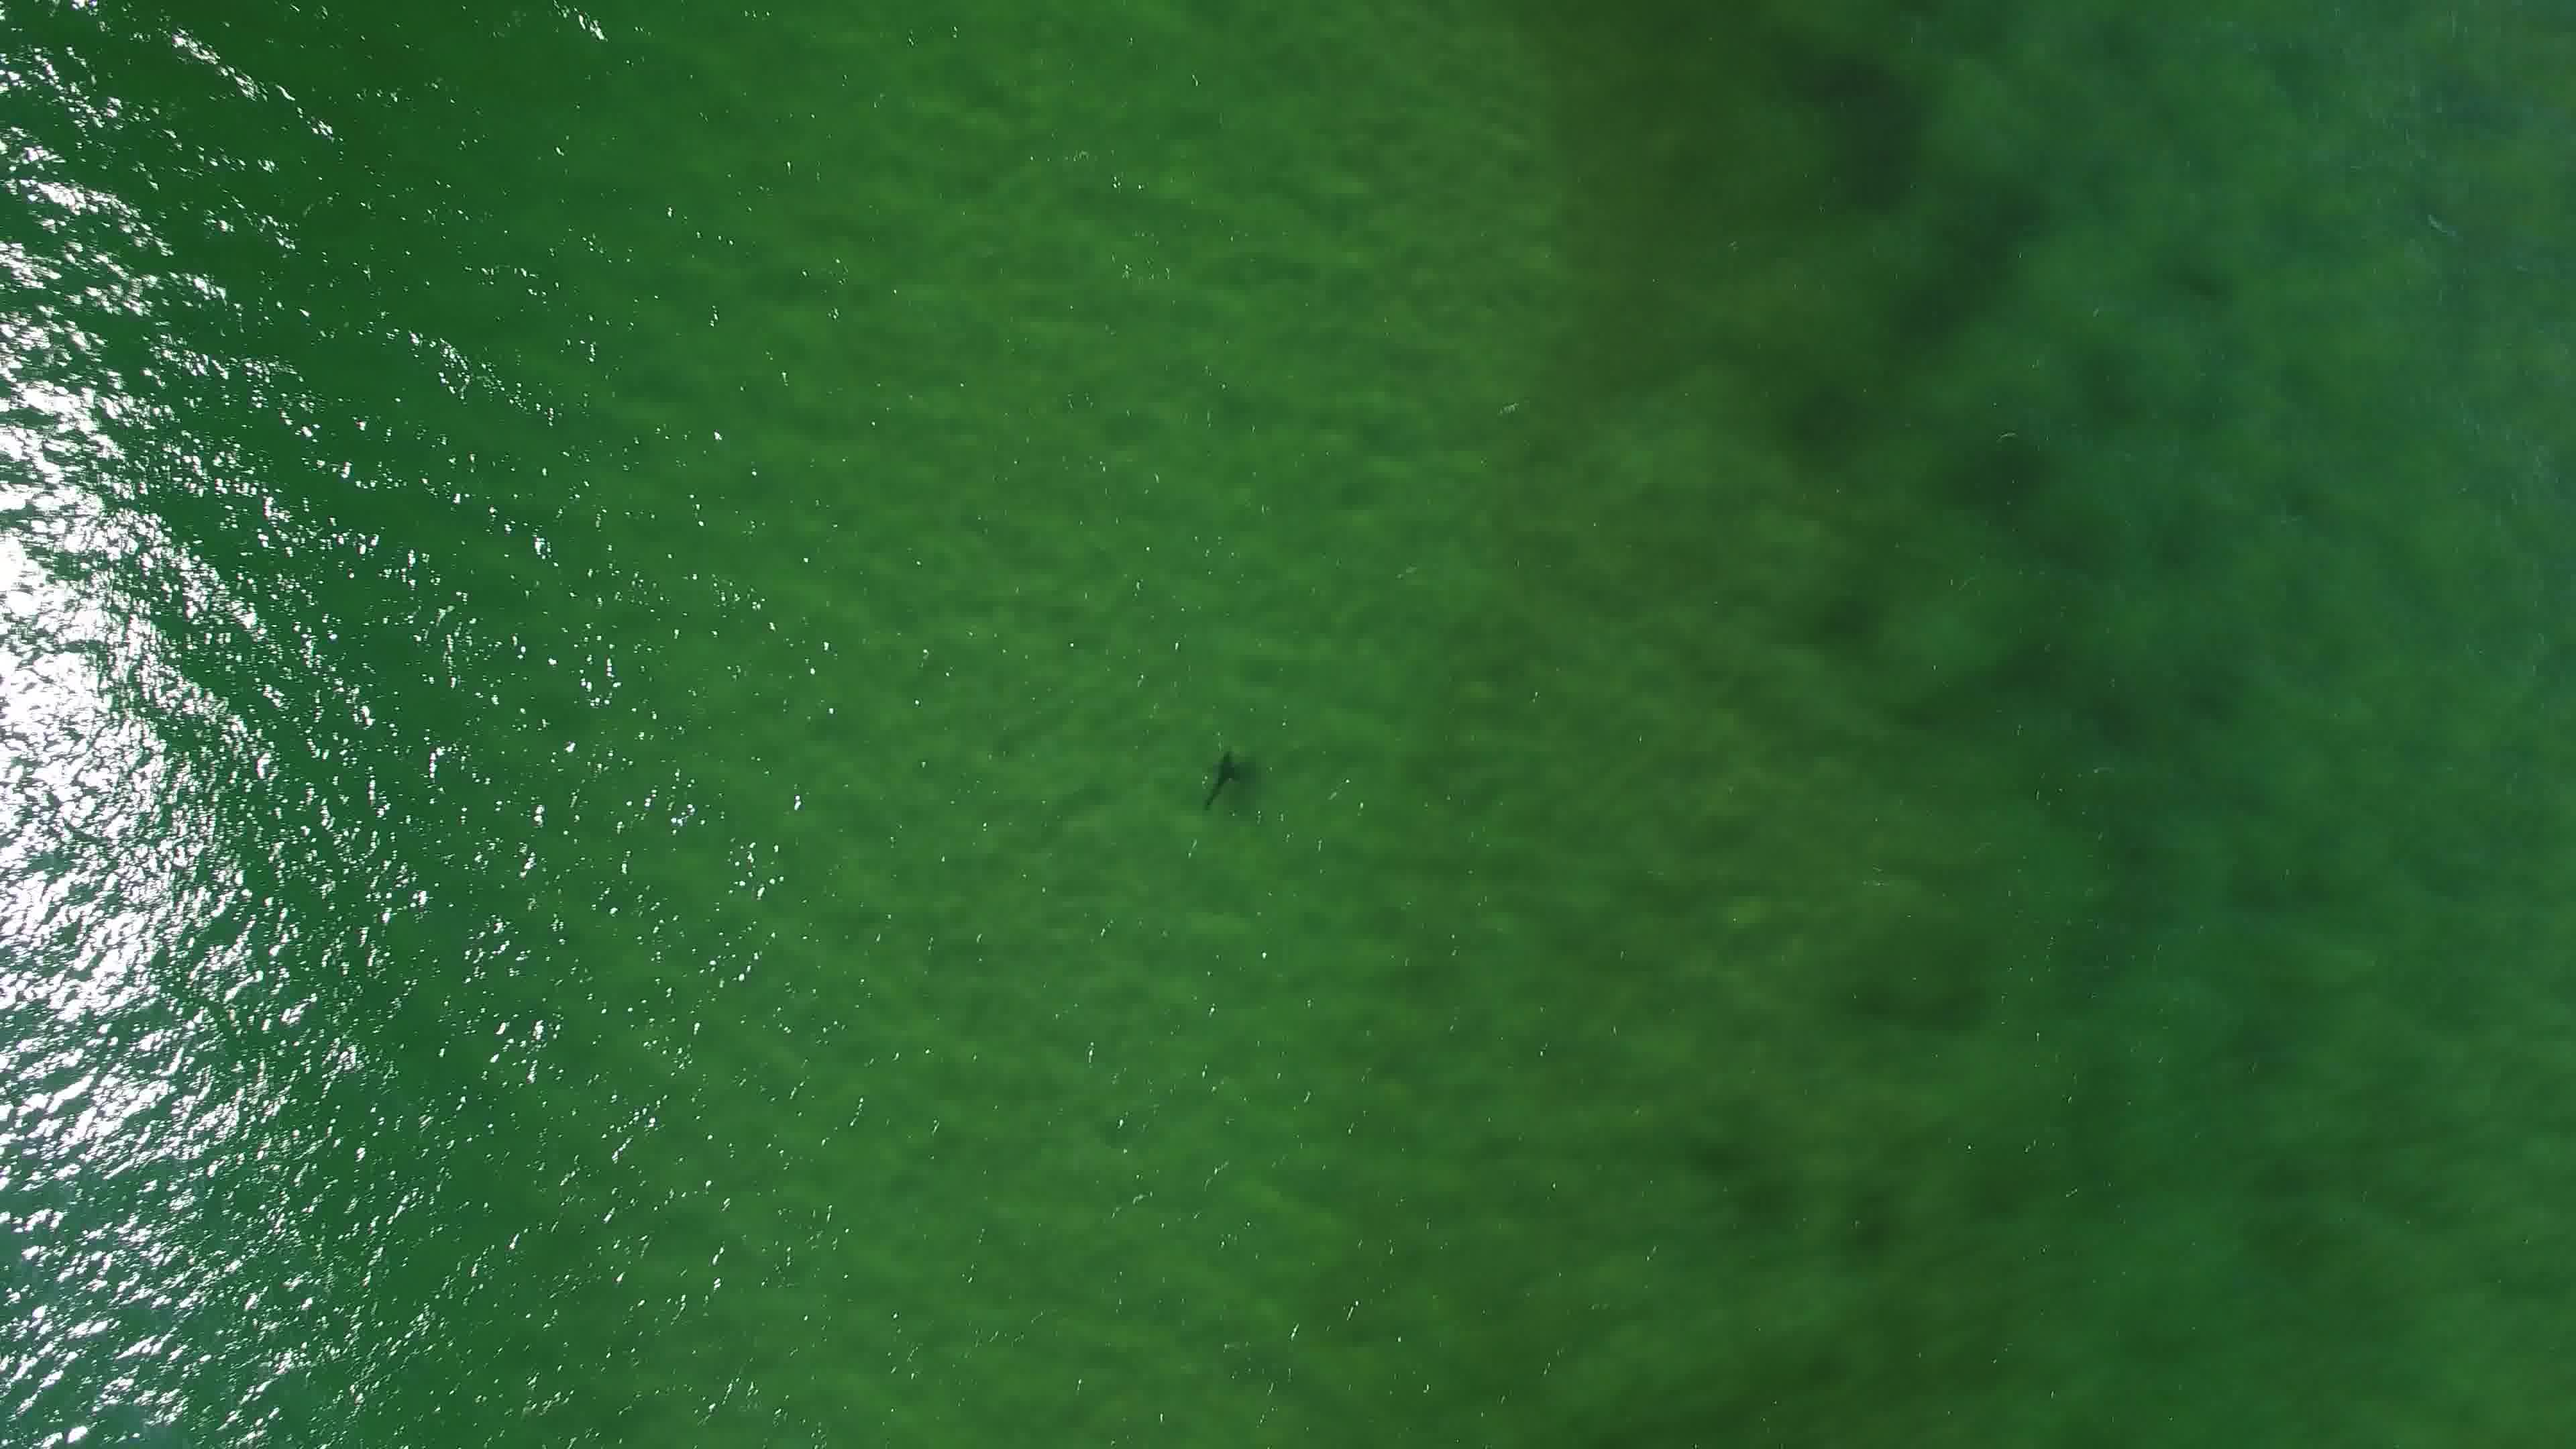shark: (1196, 743, 1253, 816)
